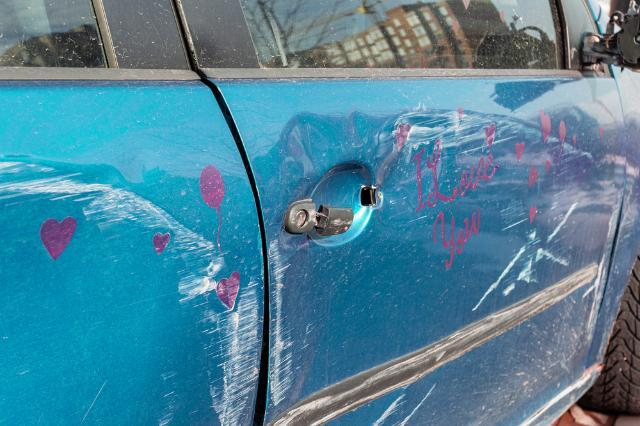dent: (0, 161, 200, 426), (279, 110, 456, 222)
scratch: (272, 297, 568, 426), (190, 230, 263, 426), (472, 191, 583, 313), (449, 109, 598, 189), (267, 238, 306, 405)
